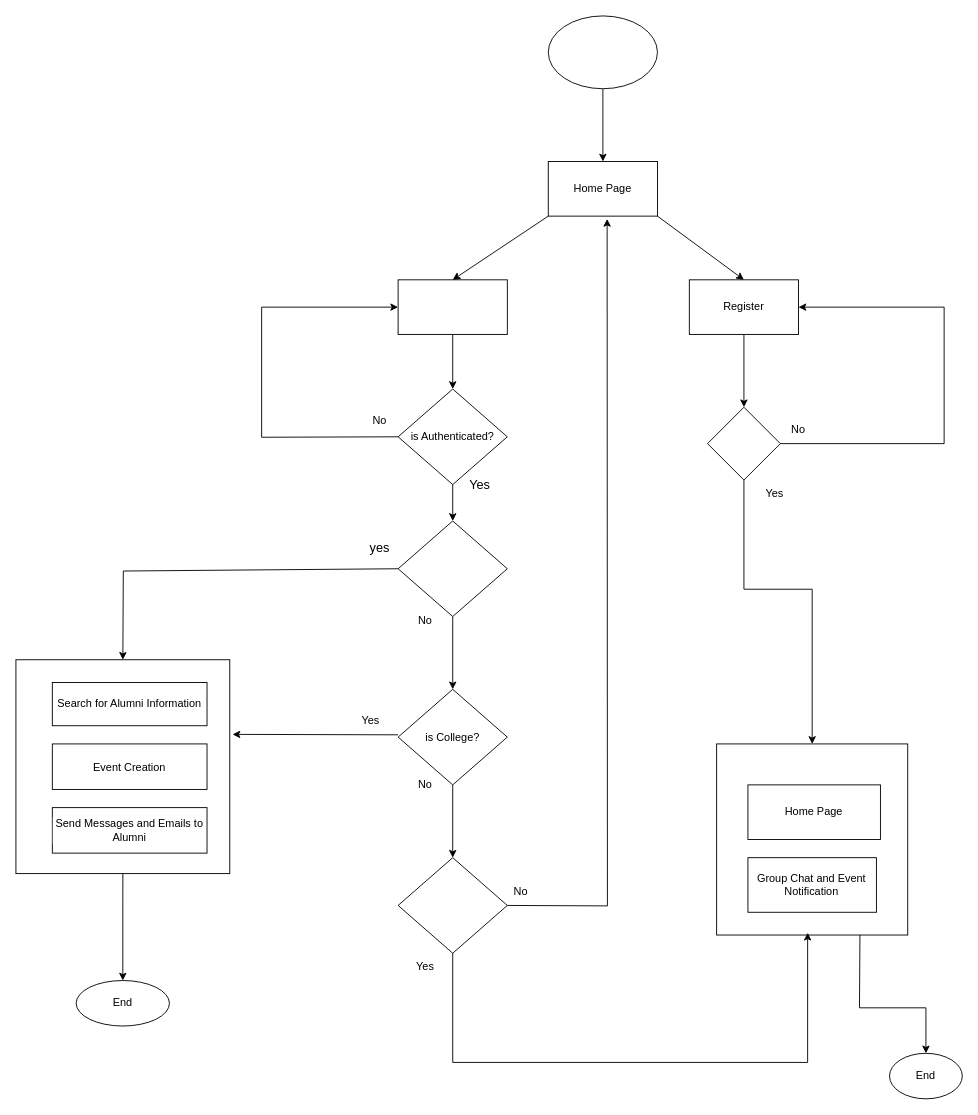
The diagram is 978 pixels wide and 1115 high, and some of its shapes have lost their labels. Each missing label, with the centre of its shape:
"is Alumni?" belongs at point 452,905.
"is Directorate?" belongs at point 452,568.
"Is Verified?" belongs at point 743,443.
"Login" belongs at point 452,306.
"Start" belongs at point 602,52.
